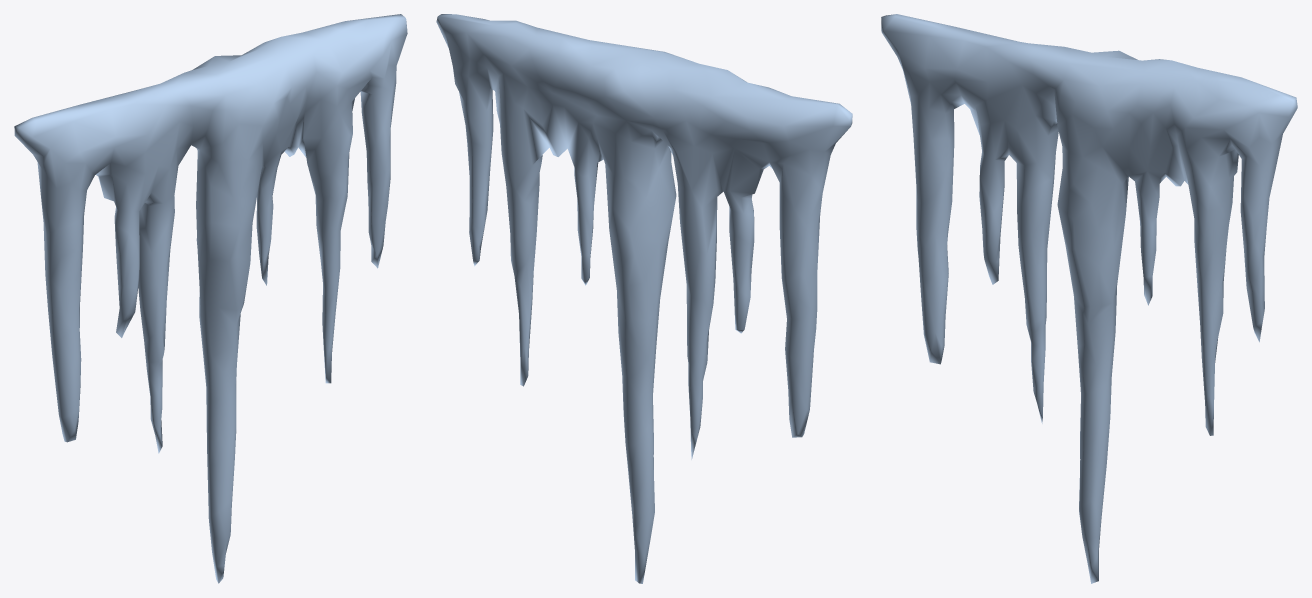
Rendered from IciclesSmall_01.fbx.
3 renders of one model, left to right at view 1: azimuth 30°, elevation 25°; view 2: azimuth 150°, elevation 25°; view 3: azimuth 330°, elevation 25°, orthographic. The views are drawn at different scales.
Parts seen in each view (by area): view 1: IciclesSmall_01.001; view 2: IciclesSmall_01.001; view 3: IciclesSmall_01.001.
Boxes of the visible parts, x1,y1,x2,y2 form: IciclesSmall_01.001: (14,14,407,583); IciclesSmall_01.001: (436,14,852,583); IciclesSmall_01.001: (881,14,1297,583).
Size of the model in its own units: 0.705 by 0.8841 by 0.1342.
